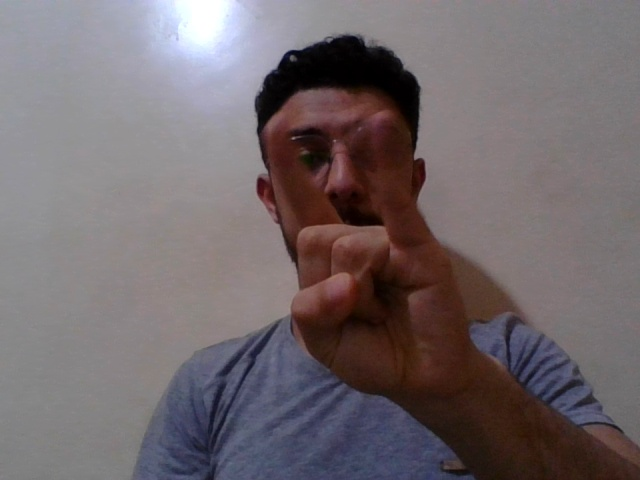I love You: (226, 106, 501, 416)
